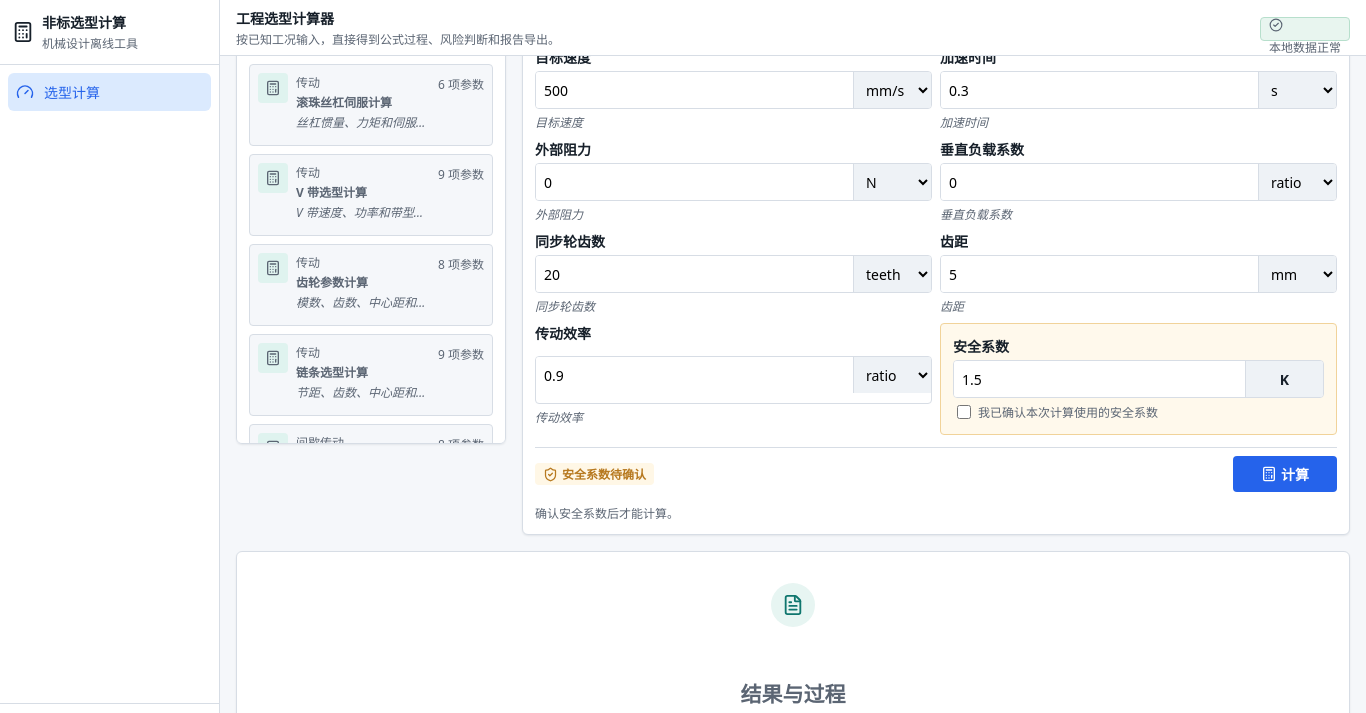
Test: 厂家样本能力的用户可见边界 › 结果页内可停用和删除样本库
The width and height of the screenshot is (1366, 713).
(page scrolled)
Expected: the text "本地数据正常" is shown, left=1269, top=38, right=1341, bottom=56
Click the checkbox labelled "我已确认本次计算使用的安全系数": (964, 412) left=957, top=405, right=971, bottom=419
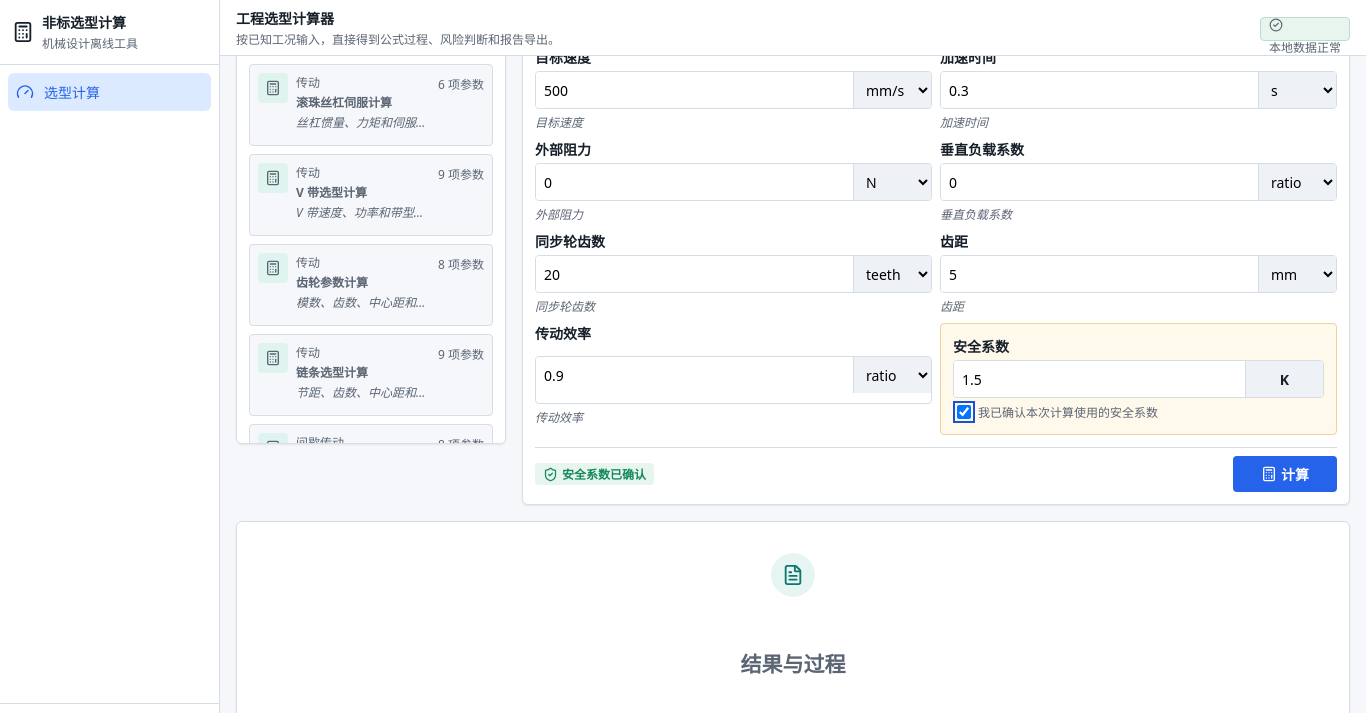
Click the button "计算": (1285, 474) left=1233, top=456, right=1337, bottom=492
(page scrolled)
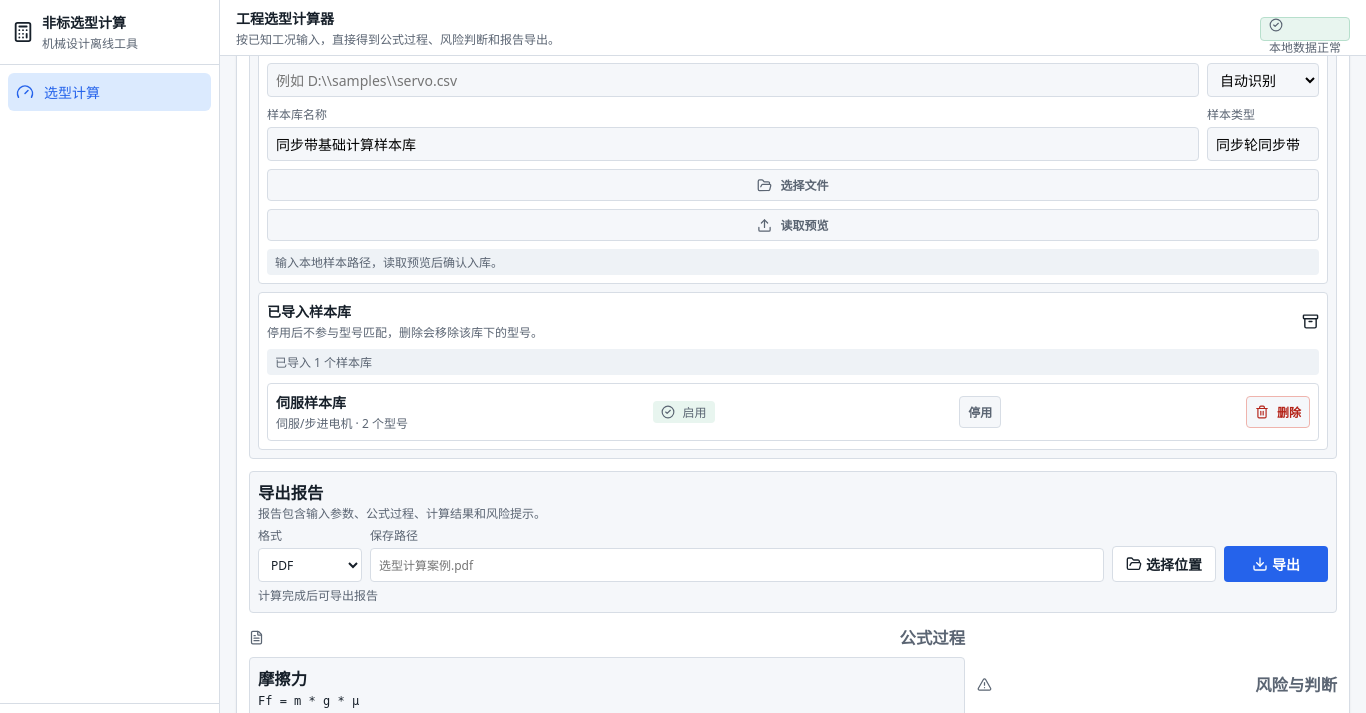
Expected: the text "伺服样本库" is shown, left=276, top=393, right=346, bottom=412
Click the button with aria-label "停用伺服样本库": (980, 412) left=959, top=396, right=1001, bottom=428
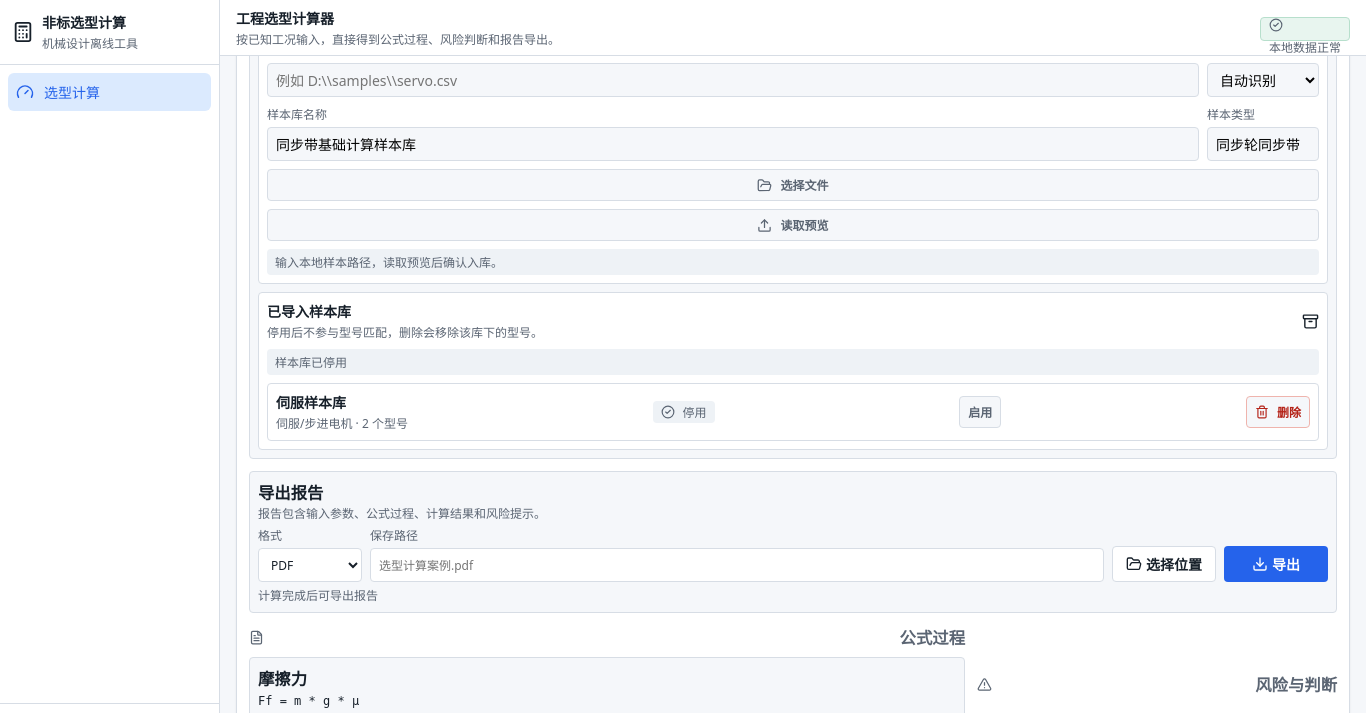
Expected: the text "样本库已停用" is shown, left=267, top=349, right=1319, bottom=375
Click the button with aria-label "删除伺服样本库": (1278, 412) left=1246, top=396, right=1310, bottom=428
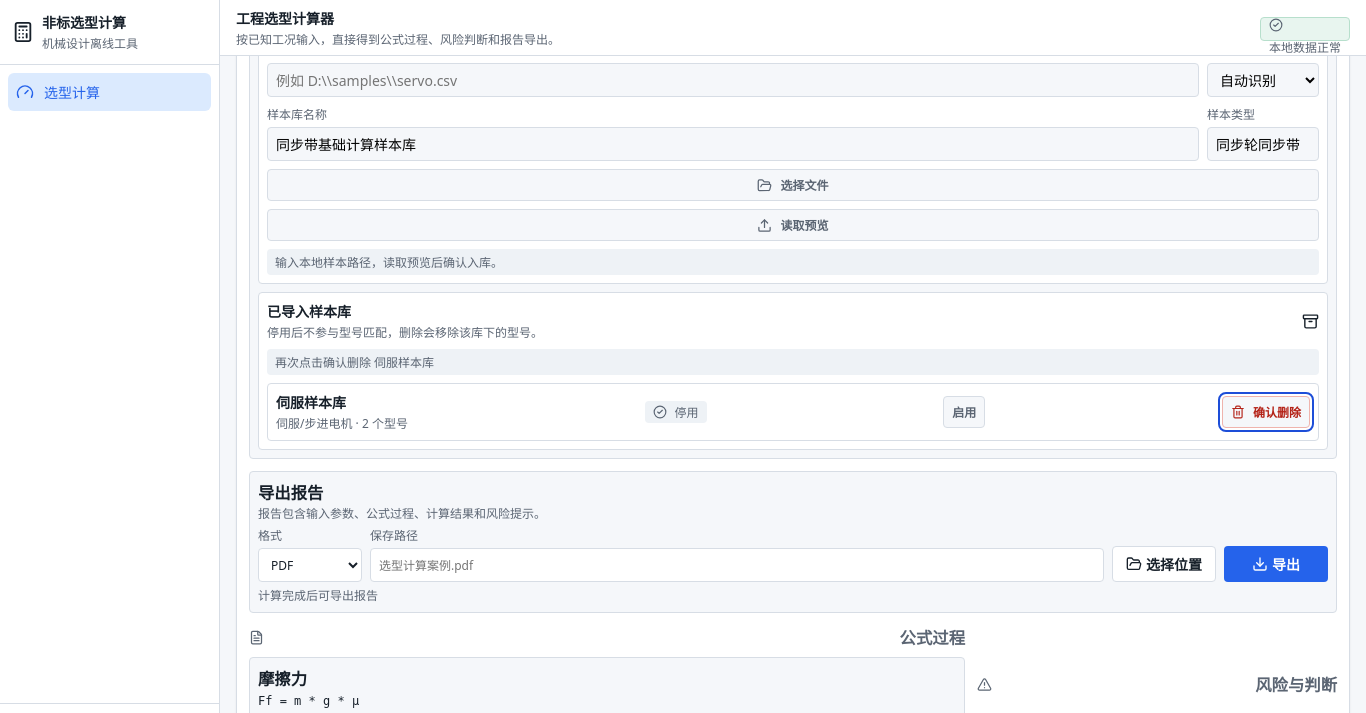
Expected: the text "再次点击确认删除 伺服样本库" is shown, left=267, top=349, right=1319, bottom=375
Click the button with aria-label "确认删除伺服样本库": (1266, 412) left=1222, top=396, right=1310, bottom=428
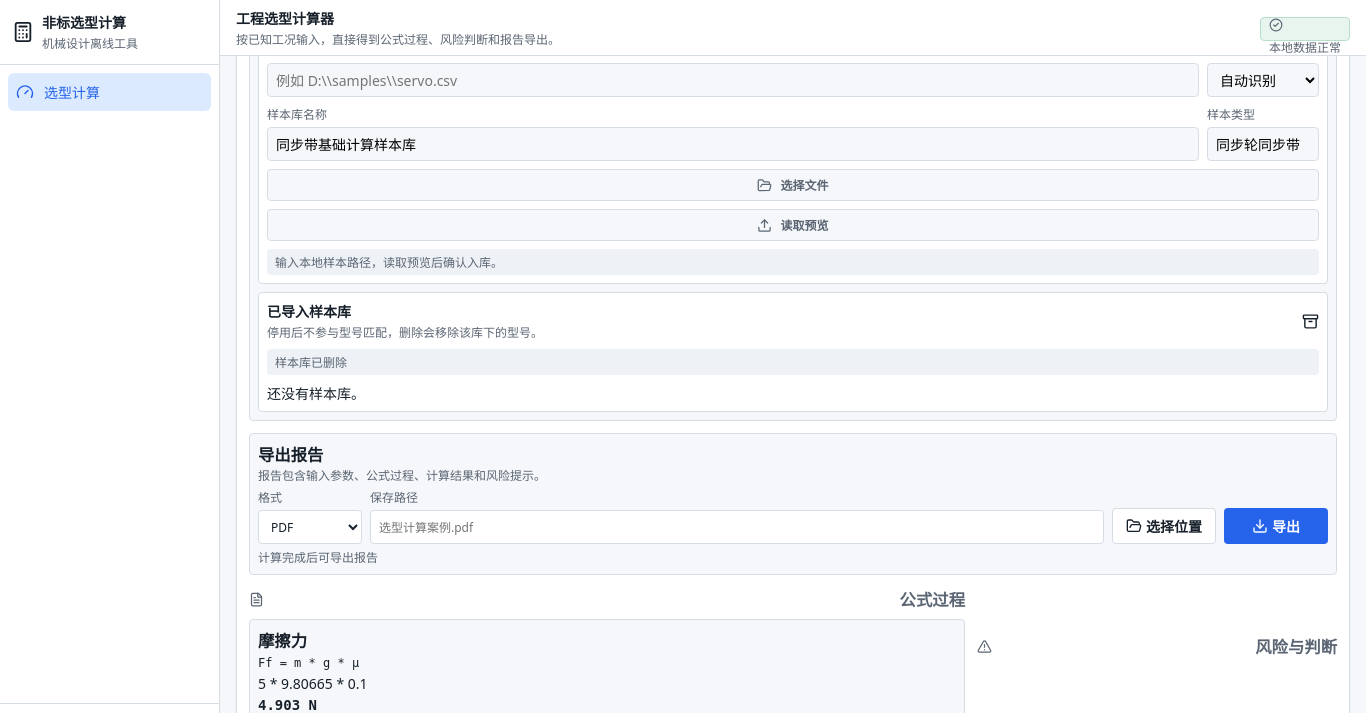
Expected: the text "样本库已删除" is shown, left=267, top=349, right=1319, bottom=375
Expected: the text "还没有样本库。" is shown, left=267, top=384, right=365, bottom=403
